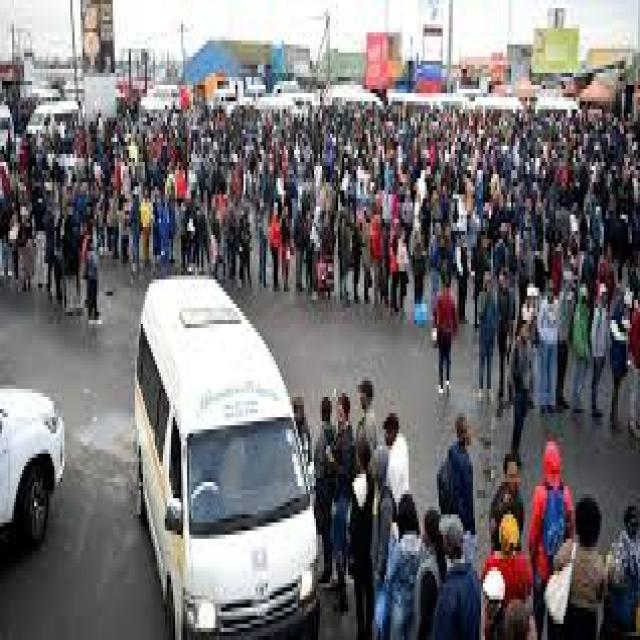MiniBus taxi: (125, 255, 324, 636)
Passenger Car: (2, 361, 70, 579)
